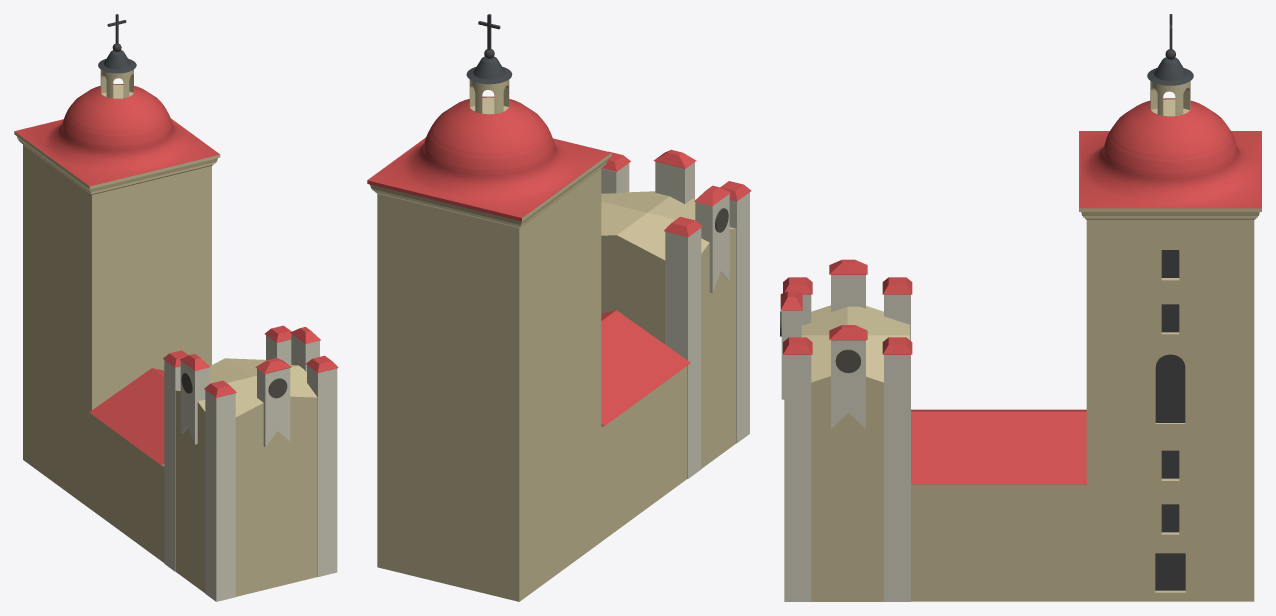
The model's file is ratusz.fbx.
The picture shows the model from 3 angles, left to right: view 1: azimuth 30°, elevation 25°; view 2: azimuth 150°, elevation 25°; view 3: azimuth 270°, elevation 25°; orthographic projection. The views are drawn at different scales.
Visible parts, largest first — view 1: Cube.002; view 2: Cube.002; view 3: Cube.002.
Boxes of the visible parts, x1,y1,x2,y2 form: Cube.002: [14, 14, 338, 601]; Cube.002: [367, 14, 751, 601]; Cube.002: [780, 14, 1261, 601].
Bounding box in the file's own units: 478 × 1593 × 1261.
